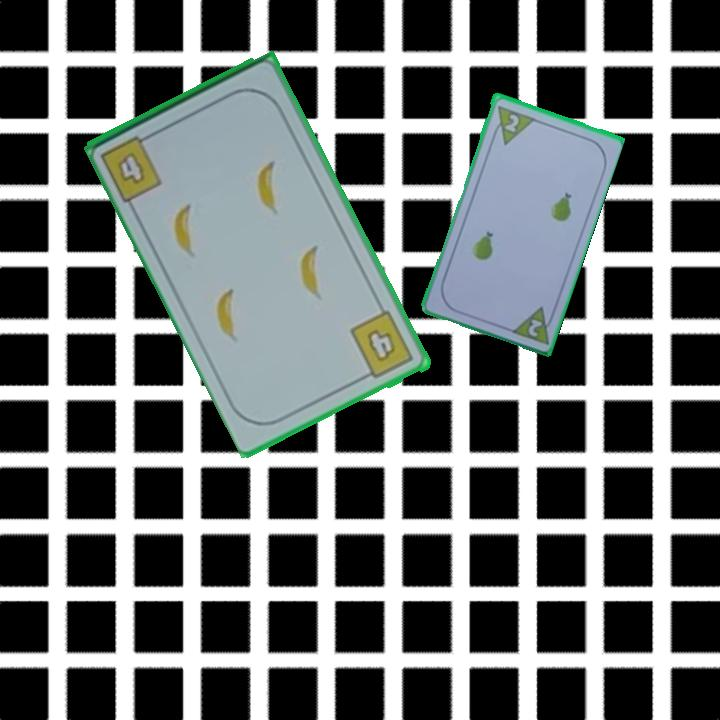2p: (501, 110, 522, 135), (524, 315, 545, 340)
4b: (347, 307, 418, 383), (97, 128, 166, 205)
